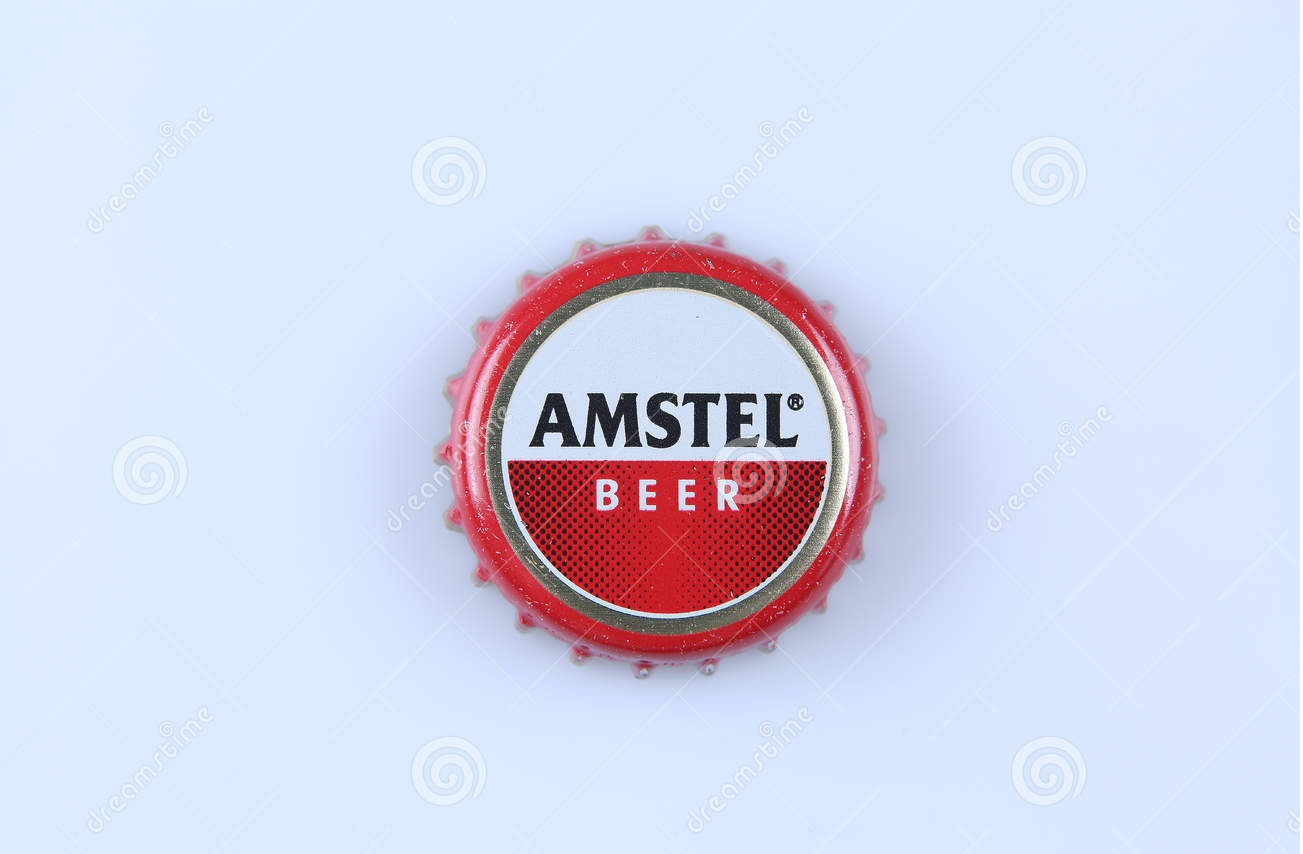amstel: (430, 223, 895, 691)
